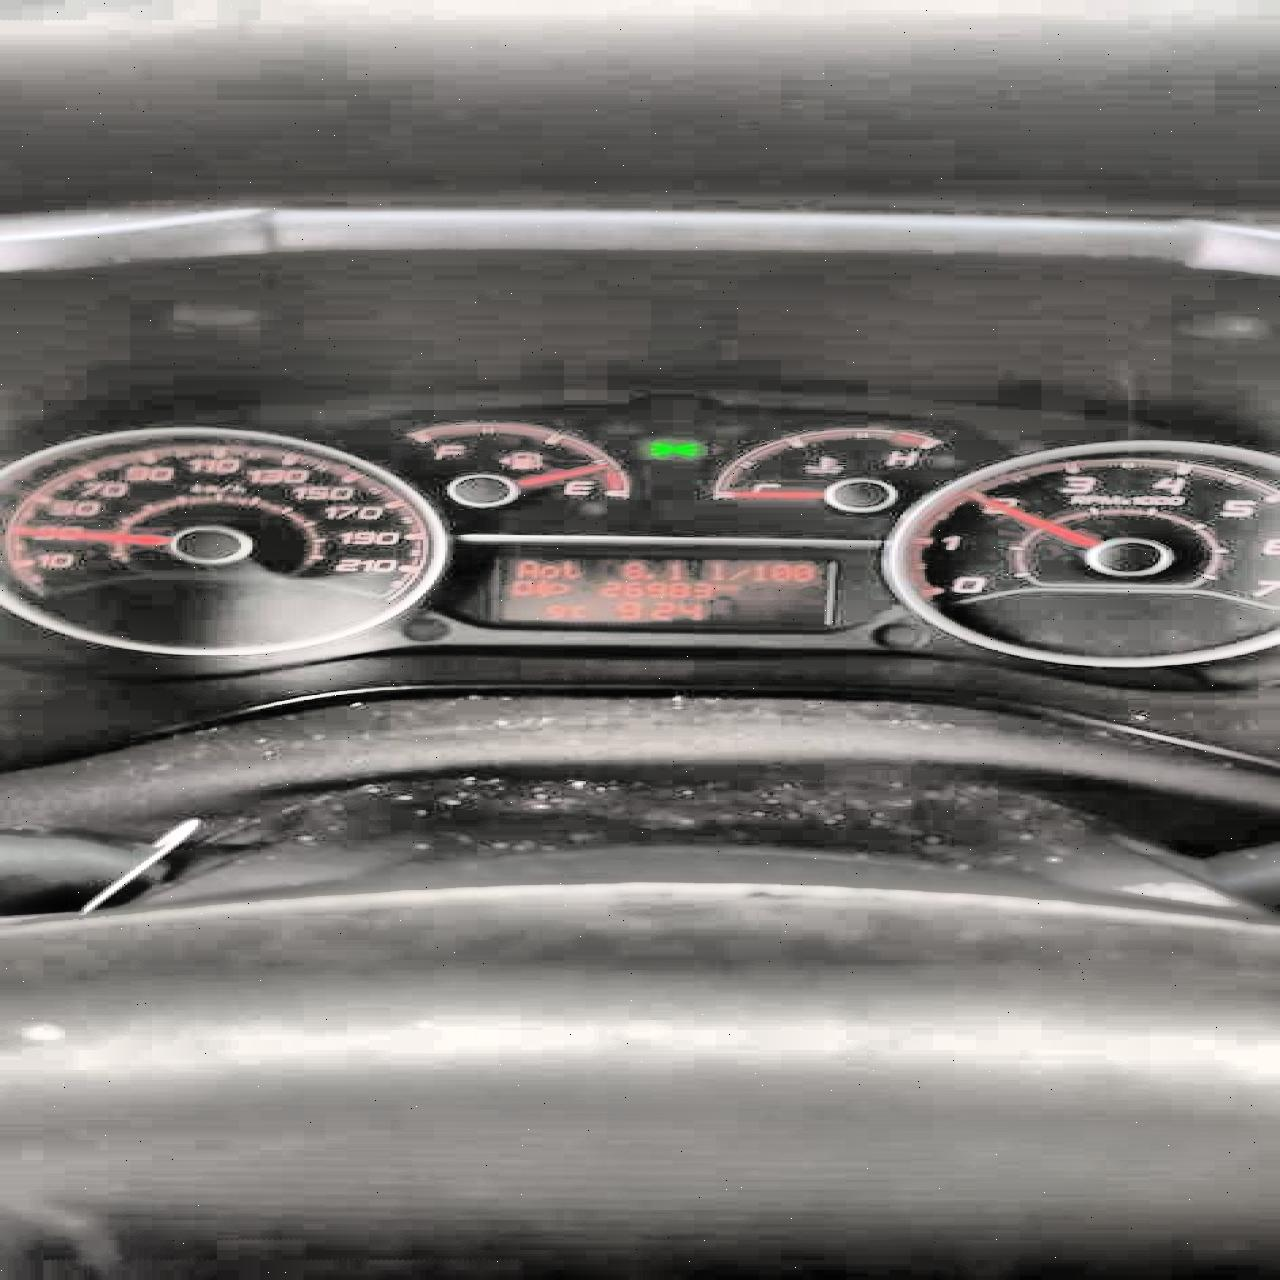-: (644, 571, 651, 580)
0: (789, 561, 813, 583), (768, 561, 789, 583), (508, 579, 532, 595)
1: (662, 559, 683, 581), (748, 561, 764, 583)
2: (646, 600, 673, 620), (594, 580, 618, 598)
3: (689, 581, 710, 599)
4: (675, 601, 702, 620)
6: (618, 580, 640, 598)
8: (618, 559, 642, 579), (667, 581, 689, 599)
9: (610, 600, 640, 620), (642, 581, 665, 598), (539, 602, 561, 619)
X: (510, 559, 537, 579), (559, 559, 580, 580), (702, 560, 722, 581), (722, 566, 749, 580), (537, 563, 559, 579), (567, 604, 588, 619), (721, 581, 737, 591), (710, 580, 722, 590)
odometer: (477, 550, 838, 629)
